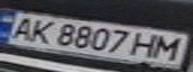0: (90, 25, 112, 53)
7: (109, 27, 133, 56)
8: (51, 20, 78, 48), (72, 24, 93, 51)
A: (3, 13, 42, 42)
H: (127, 30, 163, 59)
K: (21, 17, 57, 45)
M: (151, 34, 187, 61)
